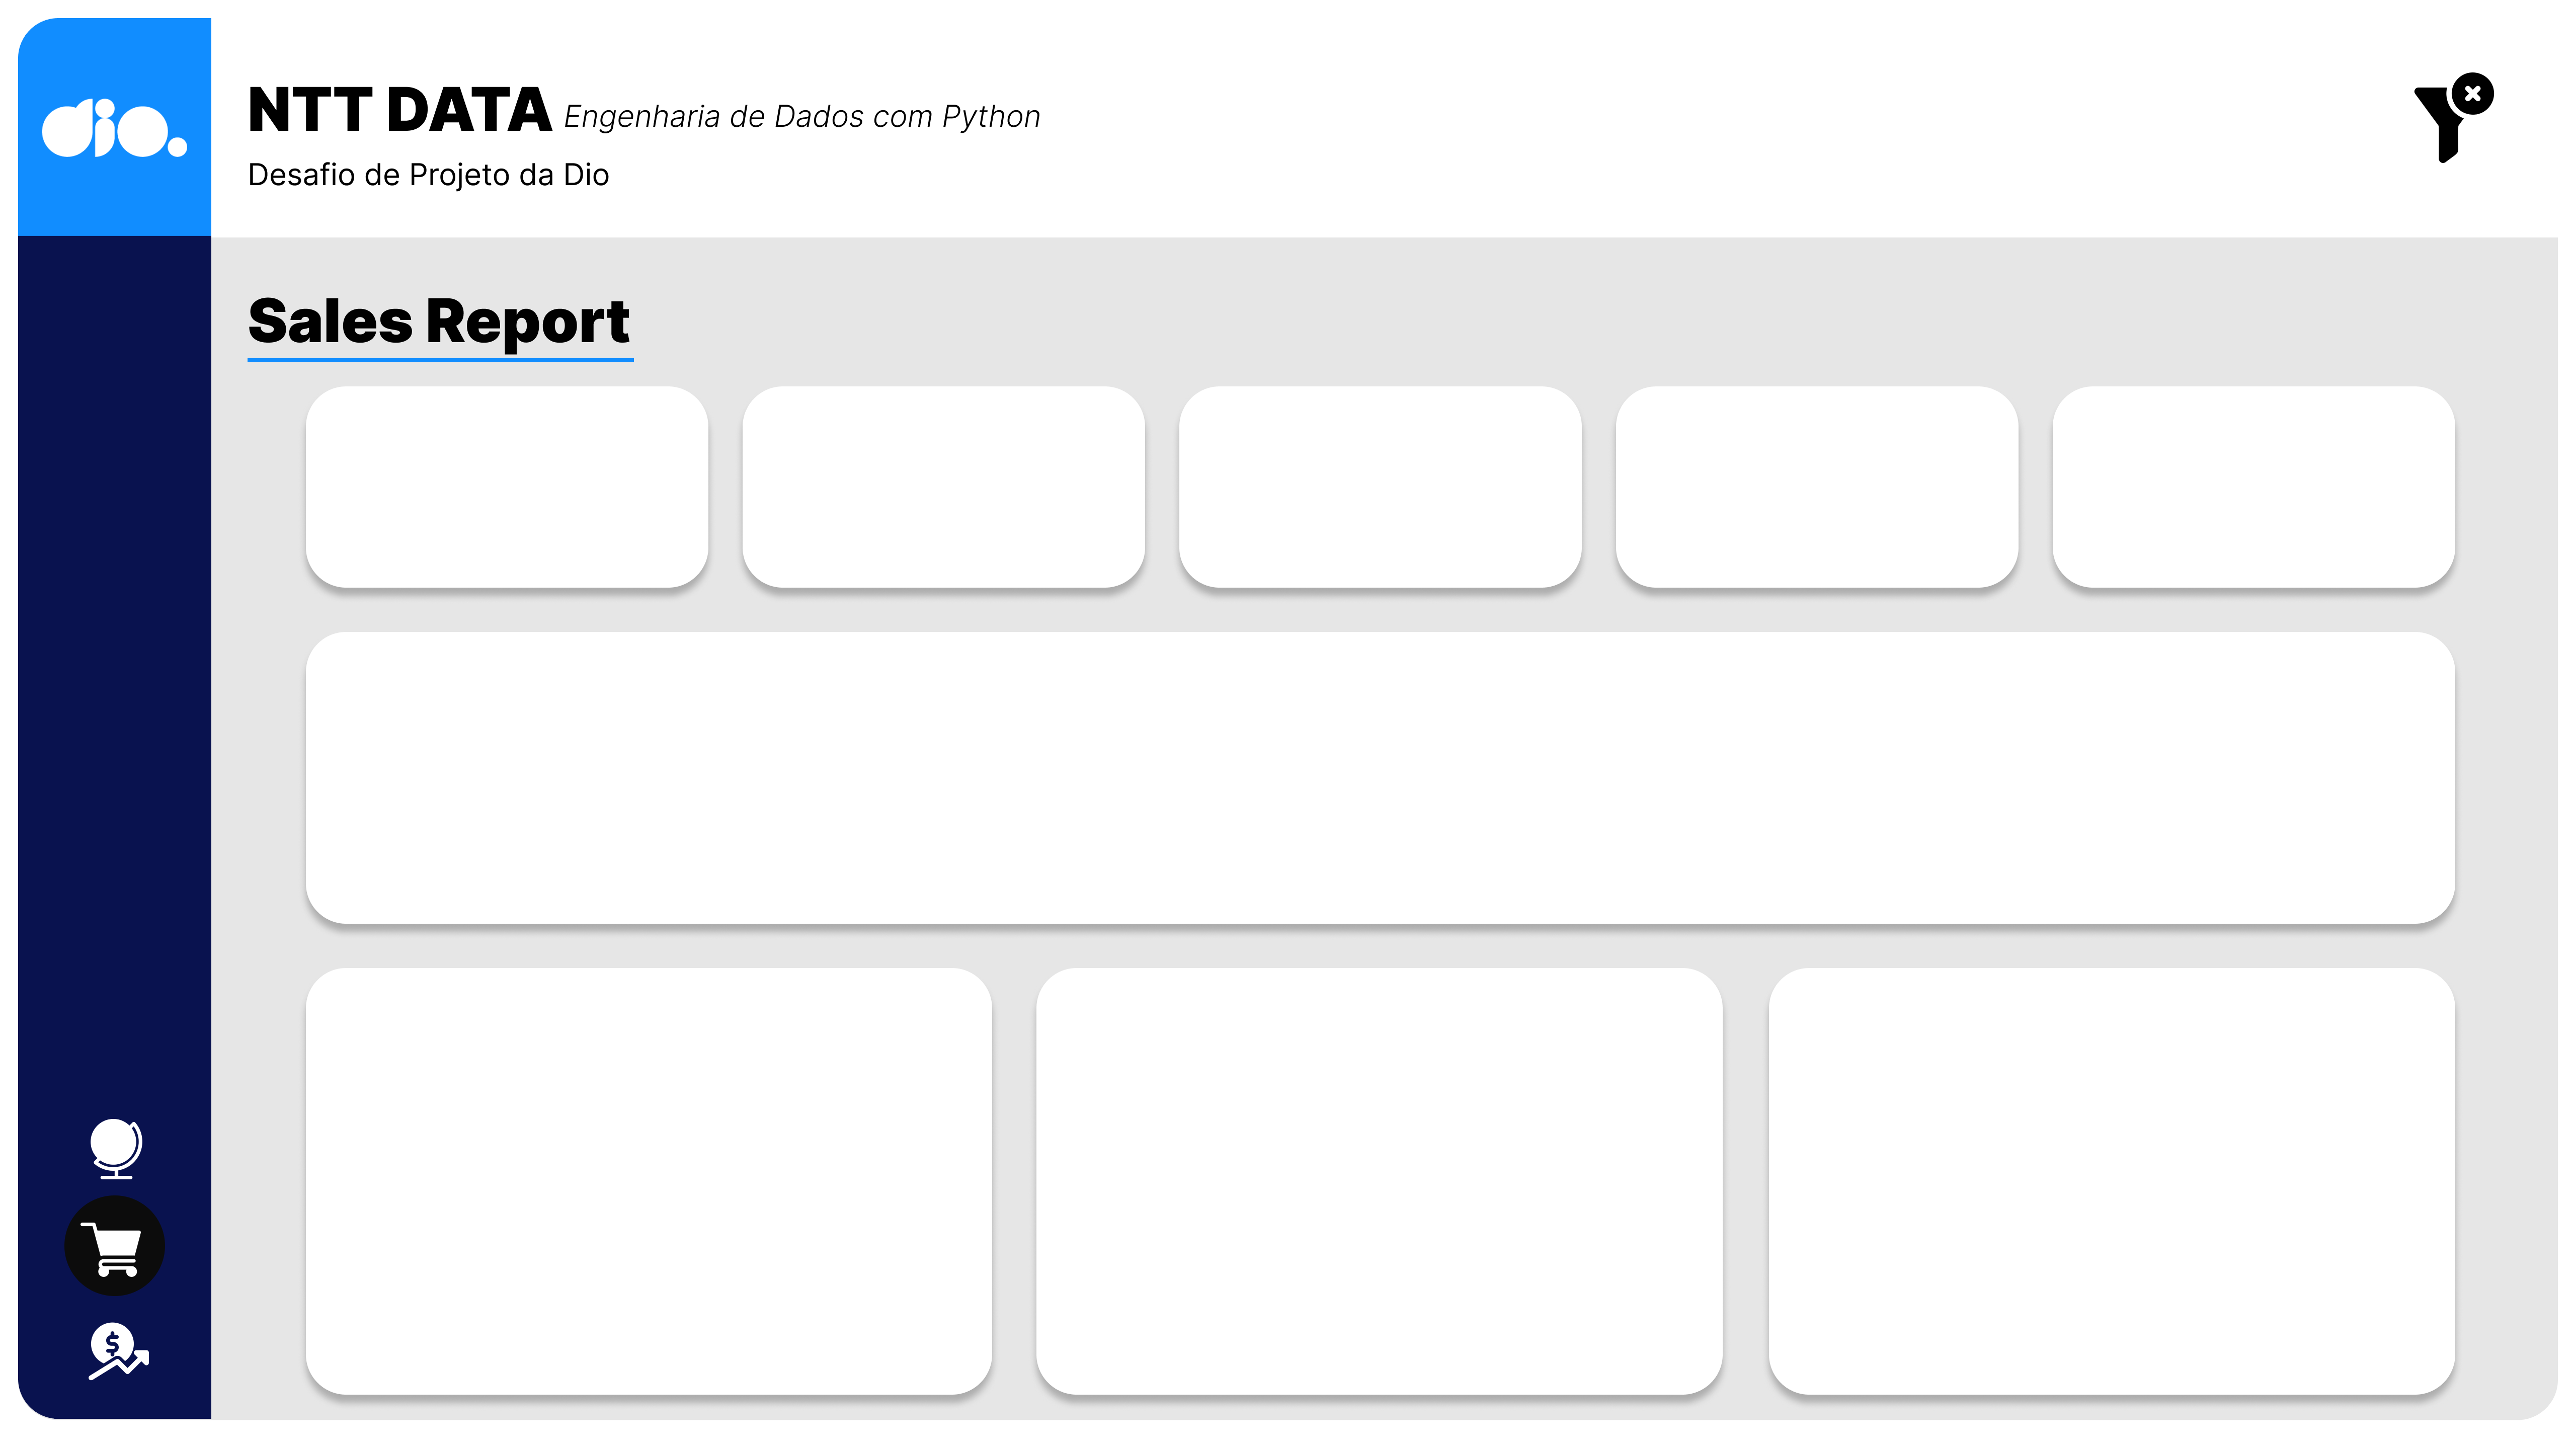

The page's visual inventory and layout, read from the dashboard file:
{"tool":"powerbi","page":{"name":"Page 1","canvas":[1280,720],"ordinal":0},"visuals":[{"type":"card","fields":{"Values":["Sum(financials. Sales)"]},"box":[154.5,200,194.5,80.9],"z":0},{"type":"card","fields":{"Values":["Sum(financials.Units Sold)"]},"box":[370.9,200,194.5,80.9],"z":1000},{"type":"card","fields":{"Values":["Sum(financials.Discounts)"]},"box":[587.3,200,194.5,80.9],"z":2000},{"type":"card","fields":{"Values":["Sum(financials.COGS)"]},"box":[1020.9,200,194.5,80.9],"z":3000},{"type":"card","fields":{"Values":["Count(financials.Country)"]},"box":[805.5,200,194.5,80.9],"z":4000},{"type":"areaChart","title":"Total de Vendas Por Mês","fields":{"Category":["financials.Date.Variation.Date Hierarchy.Month"],"Y":["Sum(financials. Sales)"]},"box":[154.5,314.5,1060.9,142.7],"z":5000},{"type":"donutChart","title":"Total de Vendas x Segmento","fields":{"Category":["financials.Segment"],"Y":["Sum(financials. Sales)"]},"box":[154.5,483.6,335.5,203.6],"z":6000},{"type":"clusteredBarChart","title":"Vendas x Produto","fields":{"Y":["Sum(financials. Sales)"],"Category":["financials.Product"]},"box":[517.7,483.3,335,203.3],"z":7000},{"type":"clusteredColumnChart","title":"Vendas x Países","fields":{"Y":["Sum(financials. Sales)"],"Category":["financials.Country"]},"box":[880.9,483.6,344.5,203.6],"z":8000},{"type":"image","box":[1191.8,30.9,51.8,51.8],"z":9000},{"type":"image","box":[36.3,644.4,44.2,42.2],"z":10000},{"type":"slicer","fields":{"Values":["financials.Date"]},"box":[973.8,133.8,270,50],"z":11000},{"type":"image","box":[36.3,546.2,45.2,44.2],"z":12000}]}

Visuals, with their boxes on the page's 1280x720 design canvas (x1, y1, x2, y2). These are canvas units, not pixel positions in the 2576x1449 screenshot, which may show the page scaled, cropped or inside an application window:
card - Sum(financials. Sales): box=[154, 200, 349, 281]
card - Sum(financials.Units Sold): box=[371, 200, 565, 281]
card - Sum(financials.Discounts): box=[587, 200, 782, 281]
card - Sum(financials.COGS): box=[1021, 200, 1215, 281]
card - Count(financials.Country): box=[806, 200, 1000, 281]
"Total de Vendas Por Mês" areaChart: box=[154, 314, 1215, 457]
"Total de Vendas x Segmento" donutChart: box=[154, 484, 490, 687]
"Vendas x Produto" clusteredBarChart: box=[518, 483, 853, 687]
"Vendas x Países" clusteredColumnChart: box=[881, 484, 1225, 687]
image: box=[1192, 31, 1244, 83]
image: box=[36, 644, 80, 687]
slicer - financials.Date: box=[974, 134, 1244, 184]
image: box=[36, 546, 82, 590]
